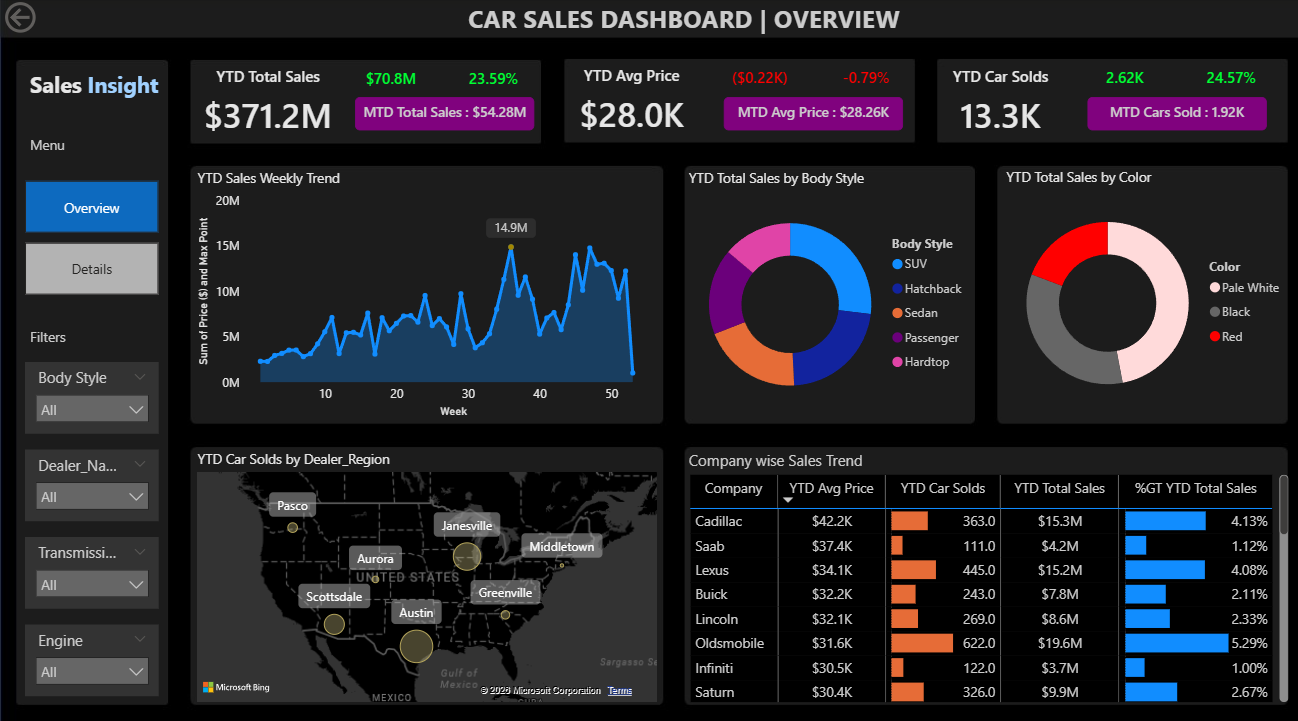

The page's visual inventory and layout, read from the dashboard file:
{"tool":"powerbi","page":{"name":"Overview","canvas":[1280,720],"ordinal":0},"visuals":[{"type":"card","title":"YTD Total Sales","fields":{"Values":["car_data.YTD Total Sales"]},"box":[177.1,67.1,172.9,77.1],"z":0},{"type":"card","fields":{"Values":["car_data.Sales Difference"]},"box":[350,67.1,68.6,27.1],"z":1000},{"type":"card","fields":{"Values":["car_data.YOY Sales Growth"]},"box":[450,67.1,68.6,27.1],"z":2000},{"type":"card","fields":{"Values":["car_data.MTD KPI"]},"box":[348.8,98.8,176.2,32.5],"z":3000},{"type":"card","title":"YTD Avg Price","fields":{"Values":["car_data.YTD Avg Price"]},"box":[534.3,65.7,172.9,77.1],"z":4000},{"type":"card","fields":{"Values":["car_data.Avg Price Diff"]},"box":[701.4,65.7,88.6,25.7],"z":5000},{"type":"card","fields":{"Values":["car_data.YoY Avg Price Growth"]},"box":[805.7,65.7,88.6,25.7],"z":6000},{"type":"card","fields":{"Values":["car_data.MTD Avg Price KPI"]},"box":[710,98.6,175.7,32.9],"z":7000},{"type":"card","title":"YTD Car Solds","fields":{"Values":["car_data.YTD Car Solds"]},"box":[895.7,67.1,172.9,77.1],"z":8000},{"type":"card","fields":{"Values":["car_data.Car Sold Difference"]},"box":[1060,65.7,88.6,25.7],"z":9000},{"type":"card","fields":{"Values":["car_data.YOY Car Sold Growth"]},"box":[1164.3,65.7,88.6,25.7],"z":10000},{"type":"card","fields":{"Values":["car_data.MTD Car Sold KPI"]},"box":[1067.1,98.6,175.7,32.9],"z":11000},{"type":"areaChart","title":"YTD Sales Weekly Trend","fields":{"Category":["Calender Table.Week"],"Y":["Sum(car_data.Price ($))","car_data.Max Point"]},"box":[188.6,168.6,461.4,250],"z":12000},{"type":"donutChart","fields":{"Category":["car_data.Body Style"],"Y":["car_data.YTD Total Sales"]},"box":[670.9,168.2,287.3,250],"z":13000},{"type":"donutChart","fields":{"Y":["car_data.YTD Total Sales"],"Category":["car_data.Color"]},"box":[982.9,167.1,287.1,250],"z":14000},{"type":"map","fields":{"Category":["car_data.Dealer_Region"],"Size":["car_data.YTD Car Solds"]},"box":[189,444.2,461.4,252.8],"z":15000},{"type":"tableEx","title":"Company wise Sales Trend","fields":{"Values":["car_data.Company","car_data.YTD Avg Price","car_data.YTD Car Solds","car_data.YTD Total Sales1","car_data.YTD Total Sales"]},"box":[671.4,444.3,598.6,252.9],"z":16000},{"type":"actionButton","box":[0,0,100,40],"z":17000},{"type":"textbox","box":[430,0,484.3,45.7],"z":18000},{"type":"slicer","fields":{"Values":["car_data.Body Style"]},"box":[24.3,358.6,131.4,70],"z":19000},{"type":"slicer","fields":{"Values":["car_data.Dealer_Name"]},"box":[24.3,444.3,131.4,70],"z":20000},{"type":"slicer","fields":{"Values":["car_data.Transmission"]},"box":[24.3,530,131.4,70],"z":20001},{"type":"slicer","fields":{"Values":["car_data.Engine"]},"box":[24.3,615.7,131.4,70],"z":20002},{"type":"textbox","box":[24.3,318.6,62.9,30],"z":20003},{"type":"textbox","box":[24.3,65.7,155.7,45.7],"z":20004},{"type":"textbox","box":[24.3,131.4,155.7,41.4],"z":20005},{"type":"pageNavigator","box":[24.3,180,131.4,112.9],"z":20006}]}

Visuals, with their boxes in screenshot pixels (x1, y1, x2, y2), scaled from the page's 1280x720 canvas onto the 1298x721 screenshot:
"YTD Total Sales" card: 180, 67, 355, 144
card - car_data.Sales Difference: 355, 67, 424, 94
card - car_data.YOY Sales Growth: 456, 67, 526, 94
card - car_data.MTD KPI: 354, 99, 532, 131
"YTD Avg Price" card: 542, 66, 717, 143
card - car_data.Avg Price Diff: 711, 66, 801, 92
card - car_data.YoY Avg Price Growth: 817, 66, 907, 92
card - car_data.MTD Avg Price KPI: 720, 99, 898, 132
"YTD Car Solds" card: 908, 67, 1084, 144
card - car_data.Car Sold Difference: 1075, 66, 1165, 92
card - car_data.YOY Car Sold Growth: 1181, 66, 1271, 92
card - car_data.MTD Car Sold KPI: 1082, 99, 1260, 132
"YTD Sales Weekly Trend" areaChart: 191, 169, 659, 419
donutChart - car_data.Body Style x car_data.YTD Total Sales: 680, 168, 972, 419
donutChart - car_data.YTD Total Sales x car_data.Color: 997, 167, 1288, 418
map - car_data.Dealer_Region x car_data.YTD Car Solds: 192, 445, 660, 698
"Company wise Sales Trend" tableEx: 681, 445, 1288, 698
actionButton: 0, 0, 101, 40
textbox: 436, 0, 927, 46
slicer - car_data.Body Style: 25, 359, 158, 429
slicer - car_data.Dealer_Name: 25, 445, 158, 515
slicer - car_data.Transmission: 25, 531, 158, 601
slicer - car_data.Engine: 25, 617, 158, 687
textbox: 25, 319, 88, 349
textbox: 25, 66, 183, 112
textbox: 25, 132, 183, 173
pageNavigator: 25, 180, 158, 293
